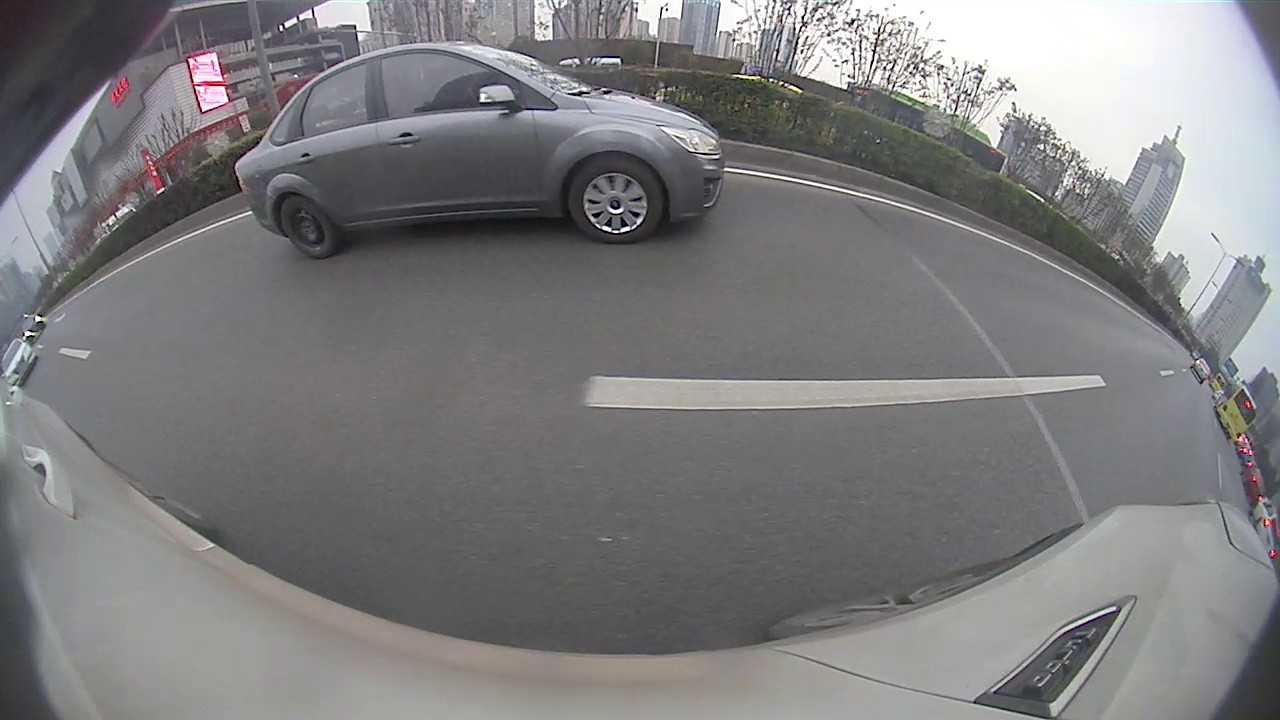bus: (1215, 377, 1257, 441)
car: (235, 43, 724, 257)
front: (564, 151, 670, 246)
rear: (278, 194, 341, 258)
